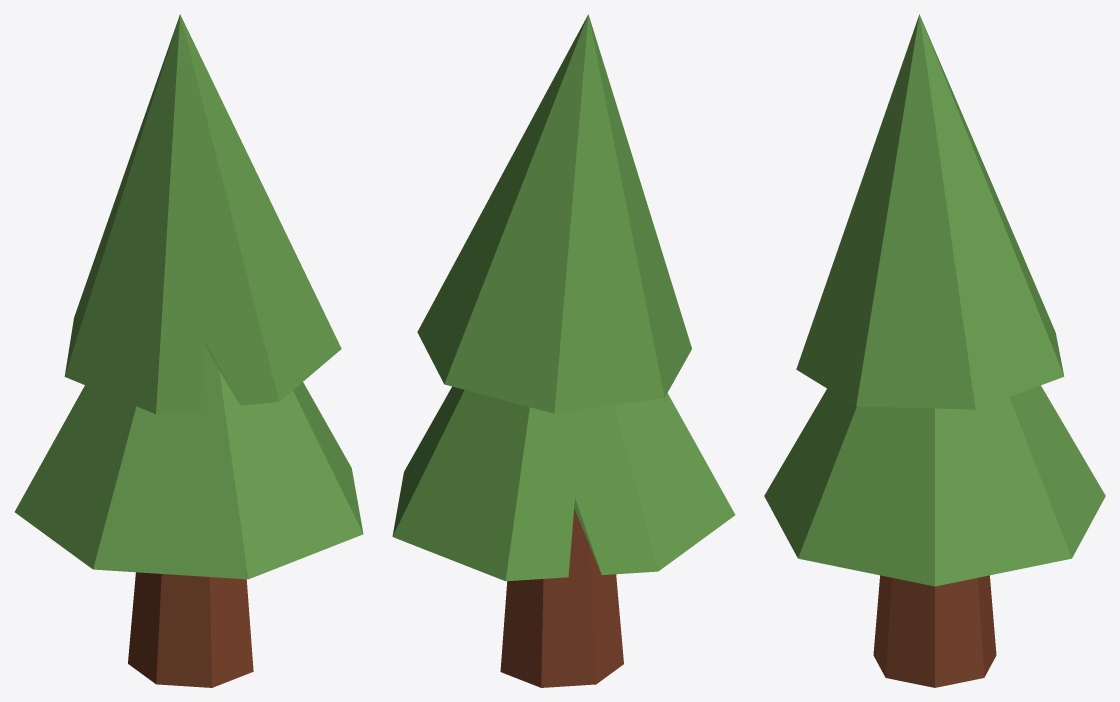
File: Fir_Tree2(1).fbx
3 renders of one model, left to right at view 1: azimuth 30°, elevation 25°; view 2: azimuth 150°, elevation 25°; view 3: azimuth 270°, elevation 25°, orthographic. The views are drawn at different scales.
Parts seen in each view (by area): view 1: polySurface3; view 2: polySurface3; view 3: polySurface3.
Part boxes in pixels (box(x1,y1,x2,y2)): polySurface3: box(14, 14, 363, 687); polySurface3: box(392, 14, 735, 687); polySurface3: box(764, 14, 1105, 687).
Bounding box in the file's own units: 2.01 × 4.24 × 2.06.
